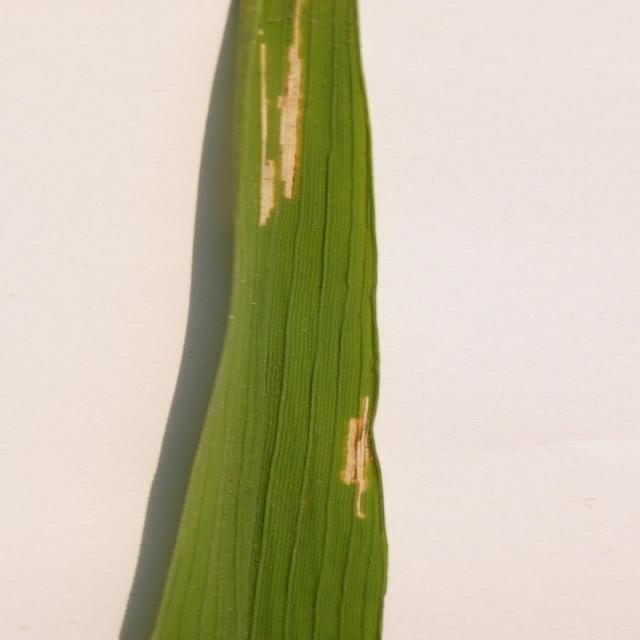Bacterial_Leaf_Blight: (304, 273, 466, 640), (236, 0, 345, 379)
